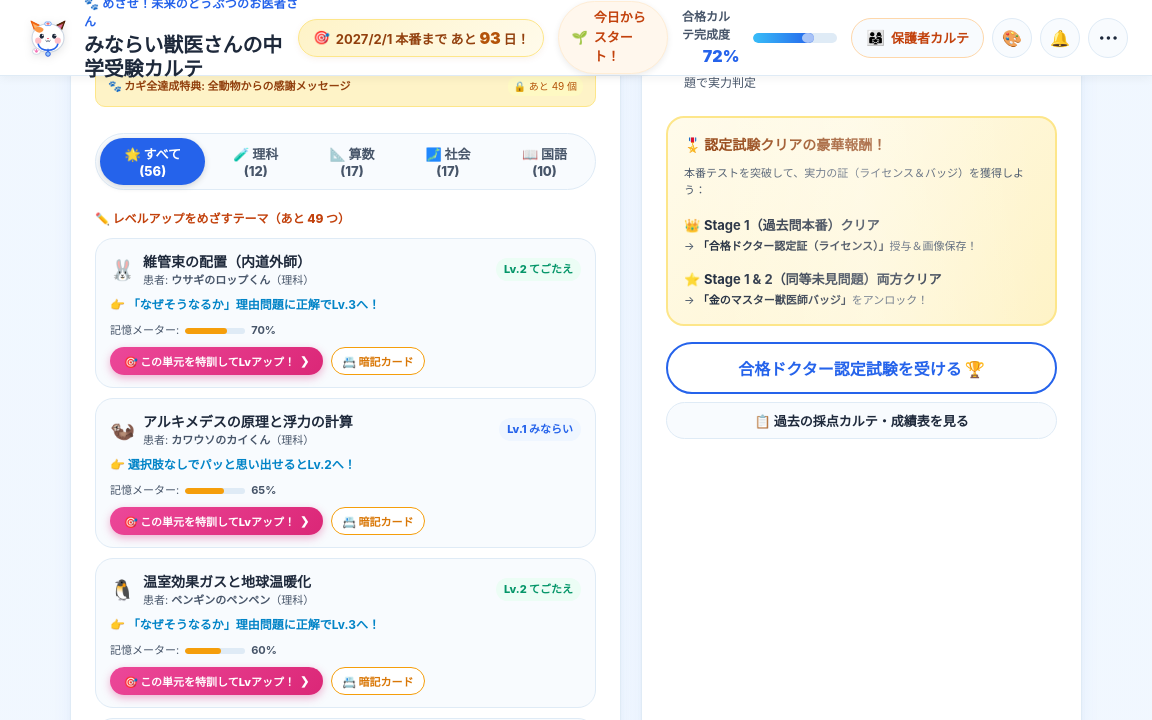
UI Redesign & New Features Integration Tests › opens and flips quick flashcard modal
This screenshot has width=1152, height=720.
(page scrolled)
// 「サクッと暗記カード」ボタンをクリック
Click the button "📇 暗記カード" below "維管束の配置（内道外師）": (378, 361) [331,347,425,375]
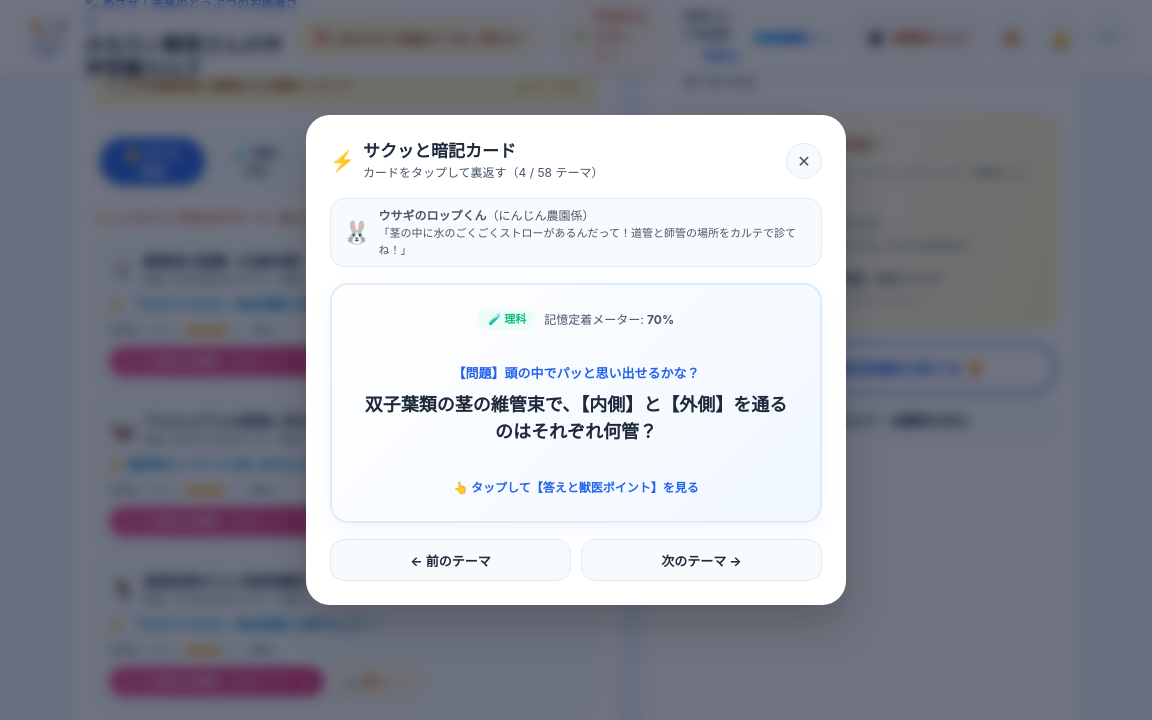
Expected: the element with test id "flashcard-modal" is shown
Expected: the heading "サクッと暗記カード" is shown, [363,141,516,161]
Expected: the text with test id "flashcard-subject-badge" reads "🧪 理科", [488,312,526,326]
// カードをタップして裏返す
Click the text "👆 タップして【答えと獣医ポイント】を見る": (576, 488) [453,480,699,495]
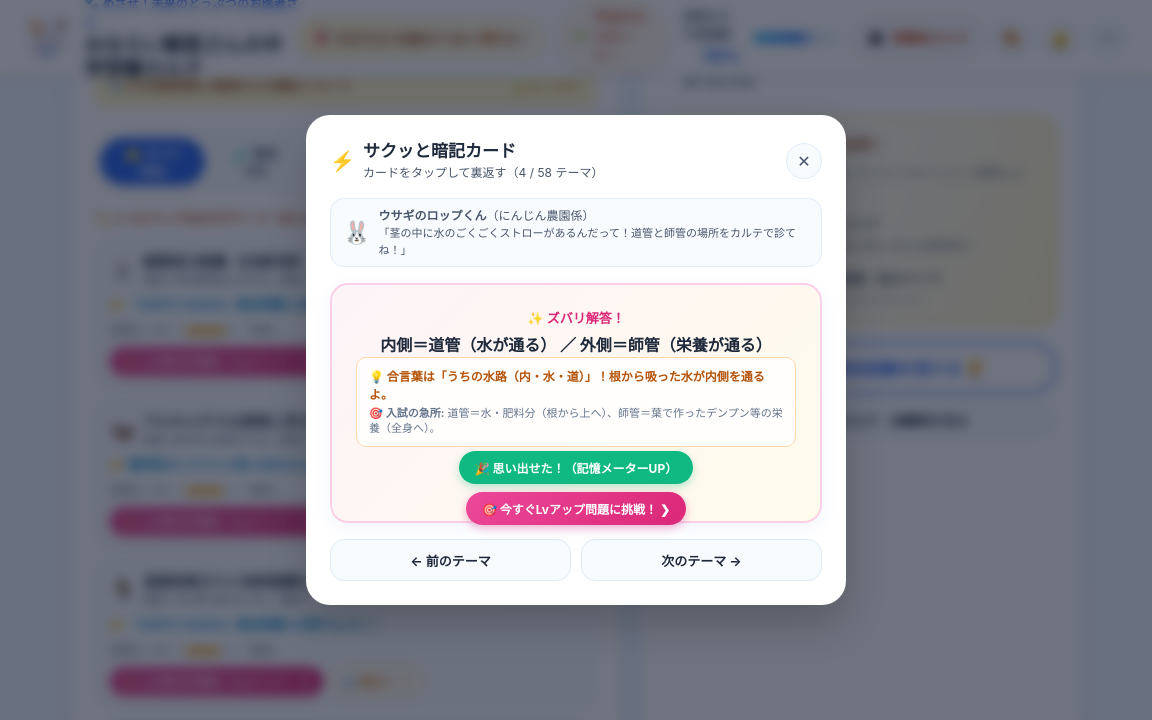
Expected: the text "✨ ズバリ解答！" is shown, [527,310,625,326]
// 閉じるボタンで閉じる
Click the button named "閉じる": (804, 160) [786,142,822,178]
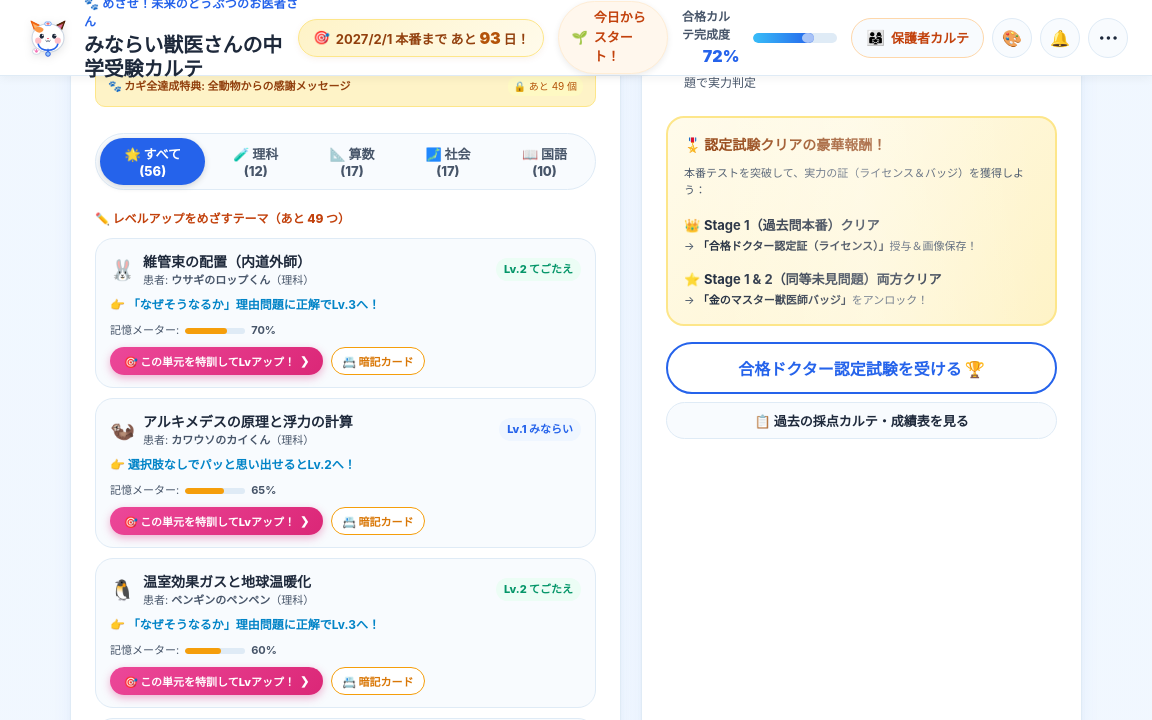
Expected: the element with test id "flashcard-modal" is gone
